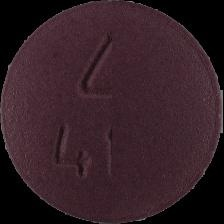0615-7904: (0, 0, 224, 224)
